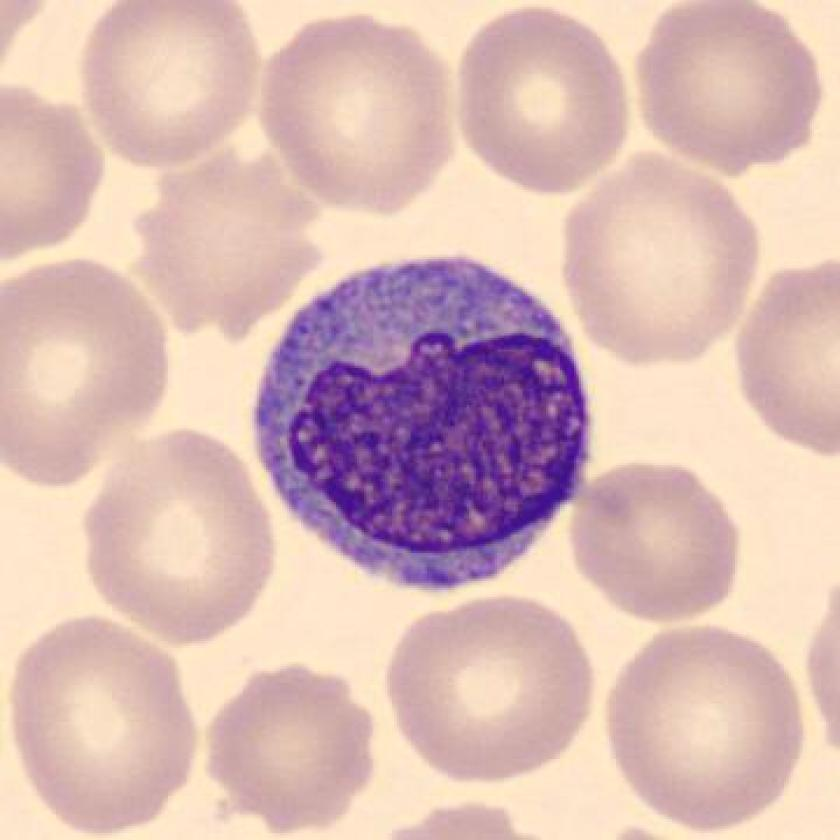monocyte: (237, 244, 617, 614)
